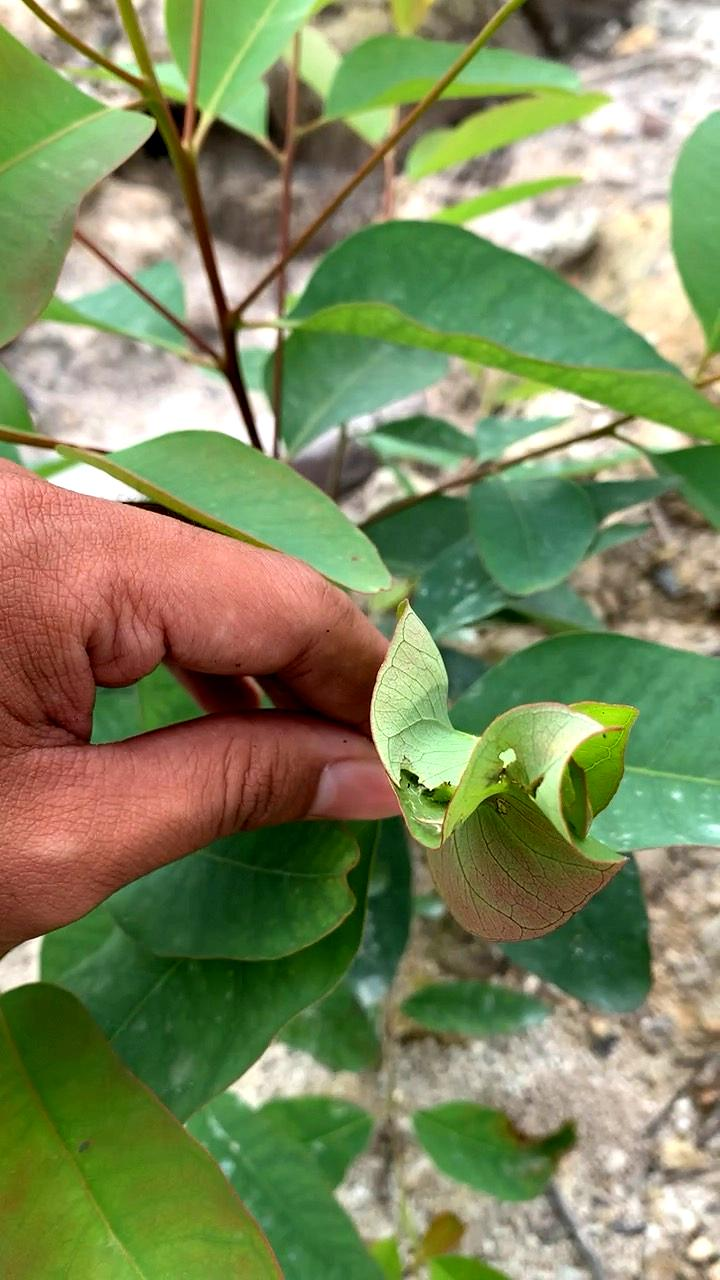Leaf Roller - Leaf: (356, 578, 653, 1000)
